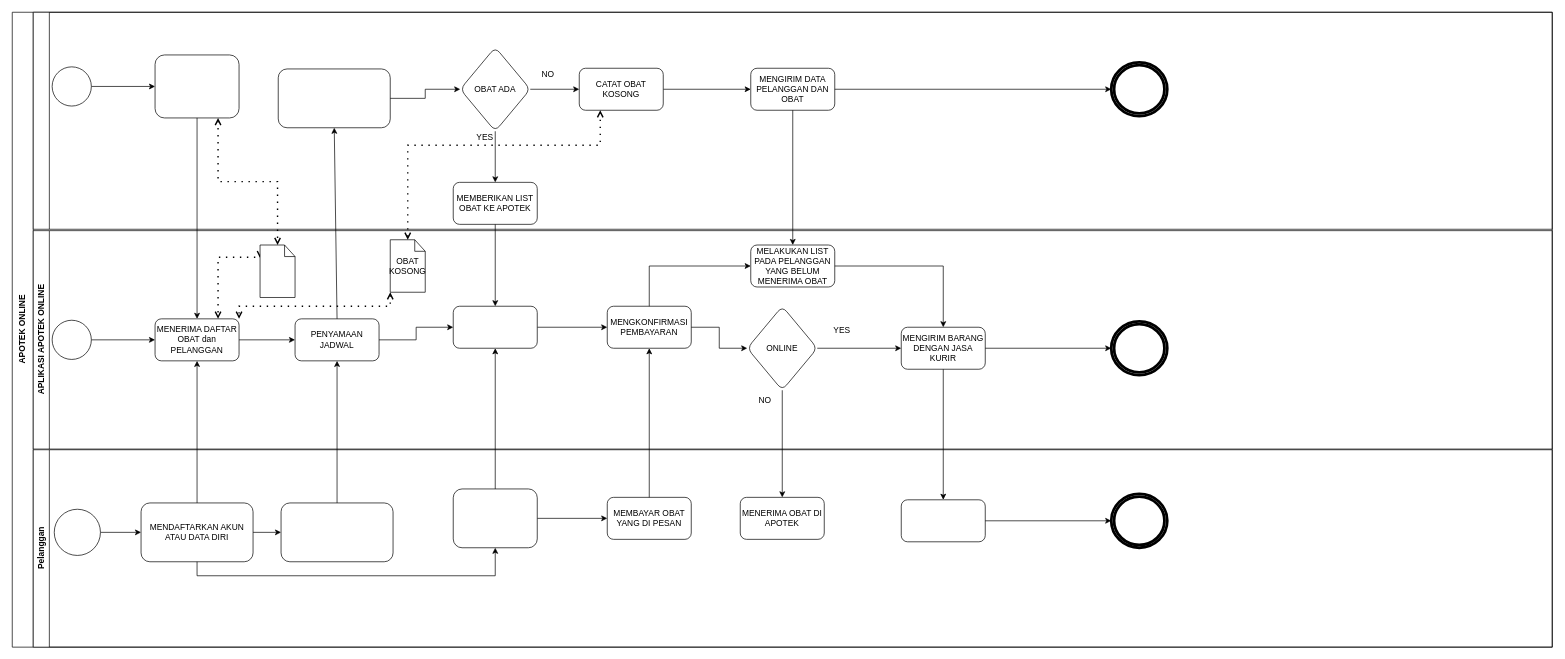
This 1565x659 diagram has some shape labels left out. Each missing label, with the box of its shape:
APOTEKER: (33, 12, 1552, 229)
LIST OBAT DI APOTEK: (259, 244, 295, 298)
MELAKUKAN LISTING OBAT: (453, 306, 537, 348)
MELAKUKAN RESERVASI WAKTU DAN TEMPAT: (280, 502, 393, 562)
MELAYANI PELANGGAN DAN MEMBERIKAN PENGOBATAN: (278, 68, 390, 128)
MEMBELI OBAT YANG DIBUTUHKAN: (453, 488, 537, 548)
MEMBUAT DAFTAR OBAT DI APOTEK: (154, 54, 239, 118)
MENERIMA OBAT DI RUMAH: (901, 499, 985, 542)
